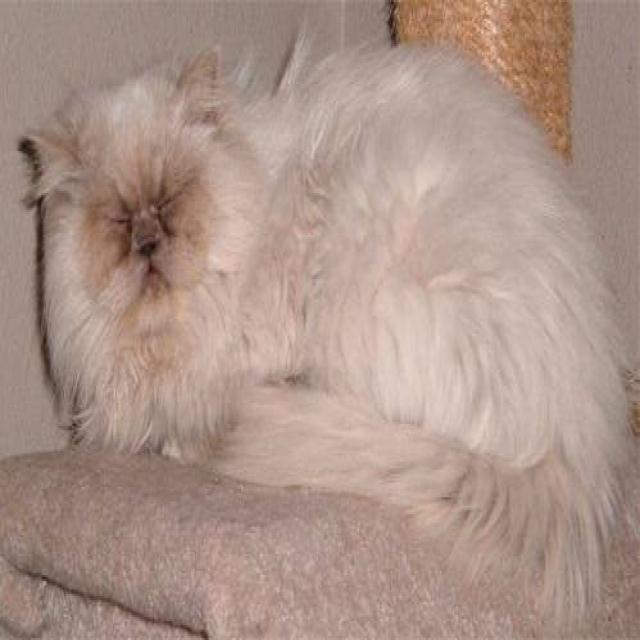cat: (16, 28, 638, 630)
